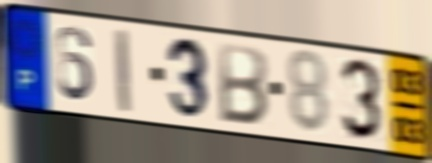3: (165, 33, 213, 124), (338, 56, 386, 144)
6: (54, 24, 96, 106)
8: (284, 47, 335, 139)
B: (216, 40, 270, 129)
I: (112, 25, 134, 116)
